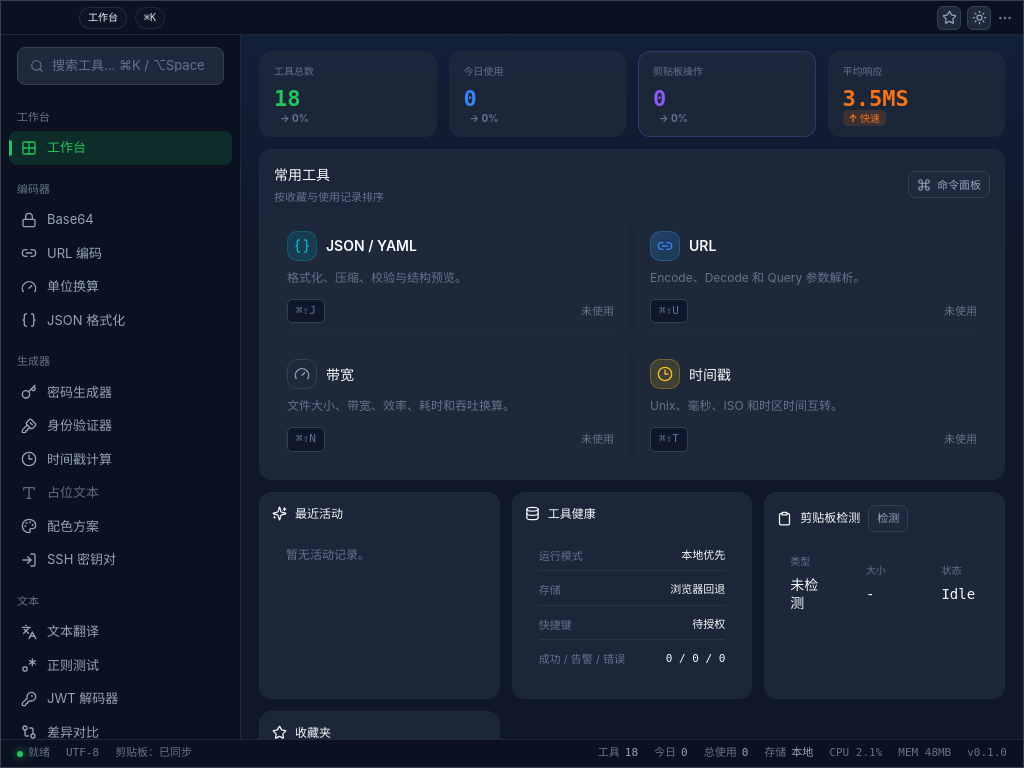
Scenario: App shell › navigates to the diff tool
Click the link "差异对比".
click(60, 732)  # box x1=21 y1=724 x2=99 y2=740
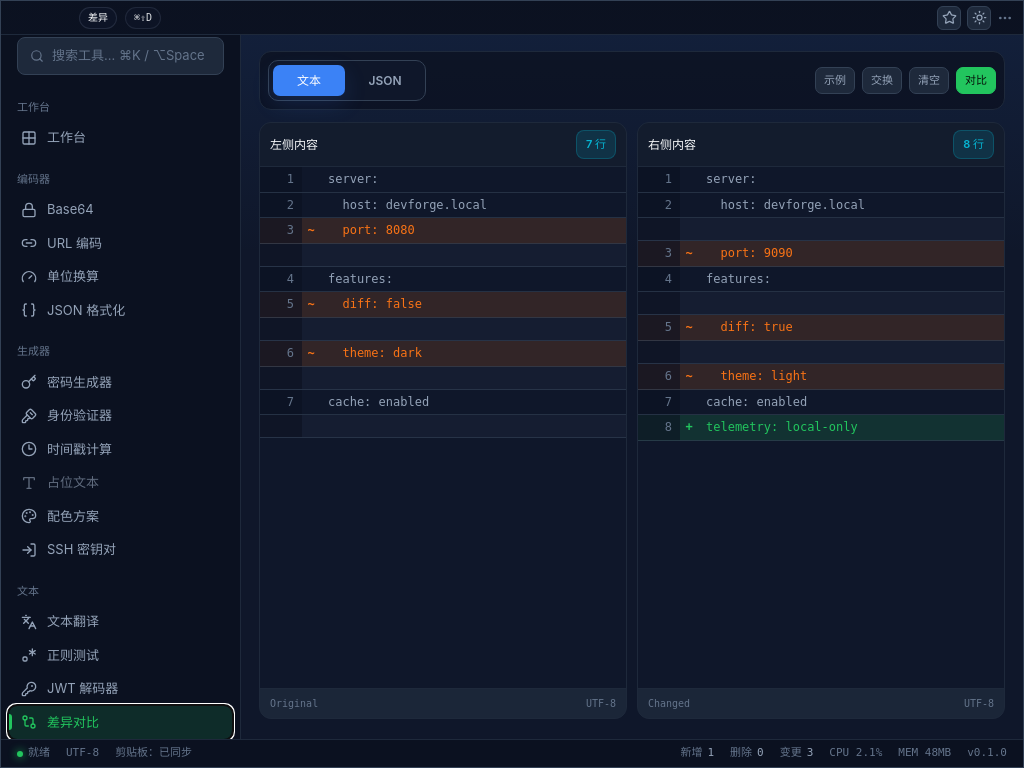
Check: the text "左侧内容" is shown, box x1=270 y1=136 x2=318 y2=154
Check: the button "对比" is shown, box x1=956 y1=67 x2=996 y2=94
